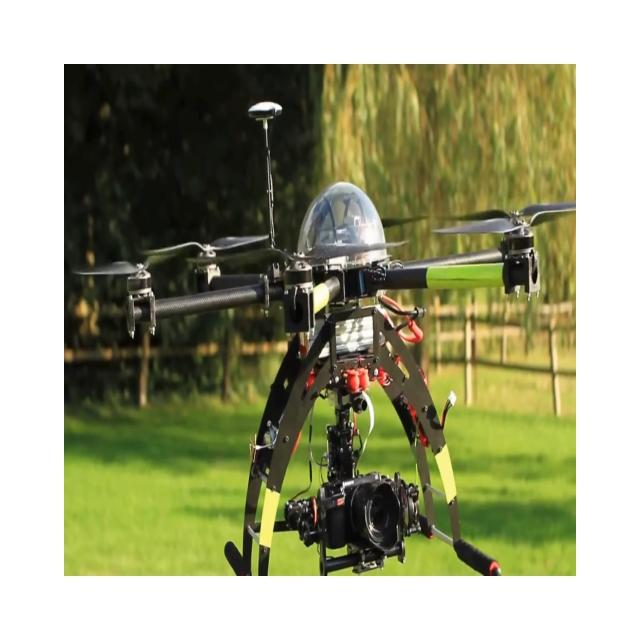drone: (71, 99, 575, 577)
